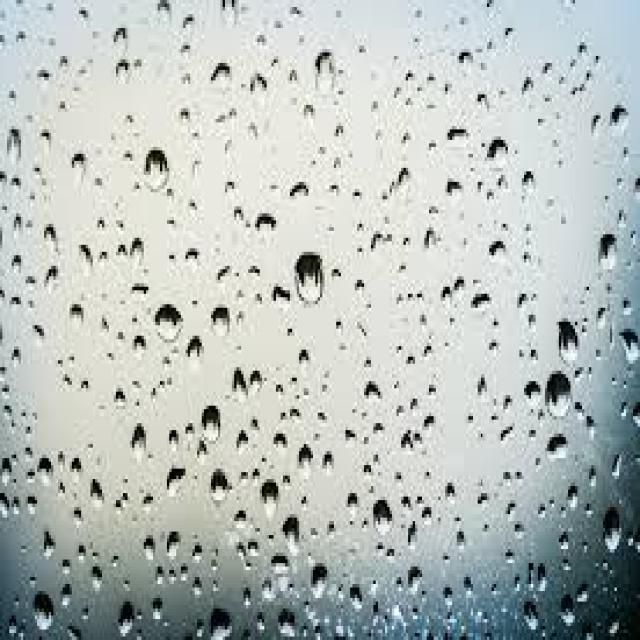raindrop: (289, 245, 338, 334), (136, 130, 173, 208), (20, 573, 62, 640), (550, 308, 590, 378), (544, 364, 582, 436), (592, 492, 627, 569), (198, 394, 235, 462), (148, 290, 186, 354), (364, 490, 401, 552), (252, 474, 288, 528), (113, 588, 147, 640), (204, 457, 234, 510), (125, 416, 154, 470), (204, 602, 244, 640)
